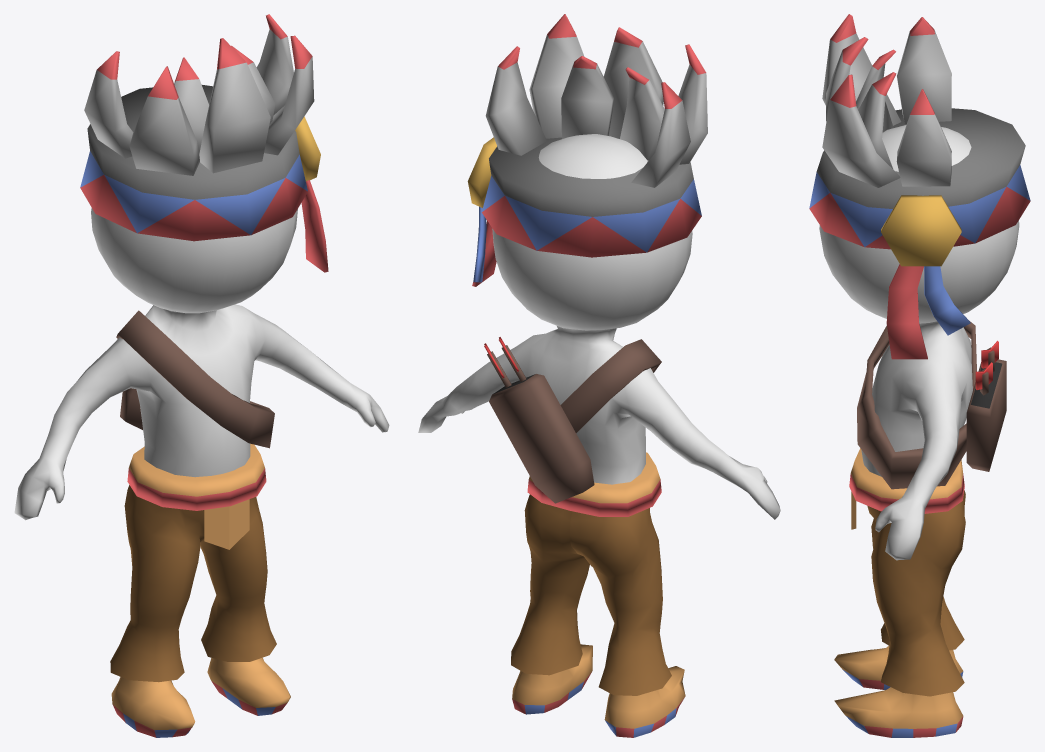
Rendered from indian_var_1.fbx.
The picture shows the model from 3 angles, left to right: view 1: azimuth 30°, elevation 25°; view 2: azimuth 150°, elevation 25°; view 3: azimuth 270°, elevation 25°; orthographic projection. The views are drawn at different scales.
Parts seen in each view (by area): view 1: helmet, Stickman_heads_sphere.012, Pants, makasin, quiver, belt; view 2: helmet, Stickman_heads_sphere.012, Pants, quiver, makasin, belt; view 3: helmet, Stickman_heads_sphere.012, Pants, quiver, makasin, belt.
Part boxes in pixels (x1,y1,x2,y2): helmet: (80, 14, 328, 272); Stickman_heads_sphere.012: (14, 208, 389, 520); Pants: (110, 485, 276, 682); makasin: (111, 657, 290, 737); quiver: (116, 310, 274, 448); belt: (127, 443, 266, 549); helmet: (467, 14, 707, 286); Stickman_heads_sphere.012: (418, 134, 780, 519); Pants: (511, 494, 671, 695); quiver: (484, 337, 661, 503); makasin: (512, 644, 685, 737); belt: (527, 452, 661, 516); helmet: (809, 14, 1030, 359); Stickman_heads_sphere.012: (819, 125, 1019, 560); Pants: (867, 490, 965, 696); quiver: (857, 321, 1006, 489); makasin: (834, 646, 963, 737); belt: (849, 448, 964, 529).
Size of the model in its own units: 123 by 218 by 65.64.
